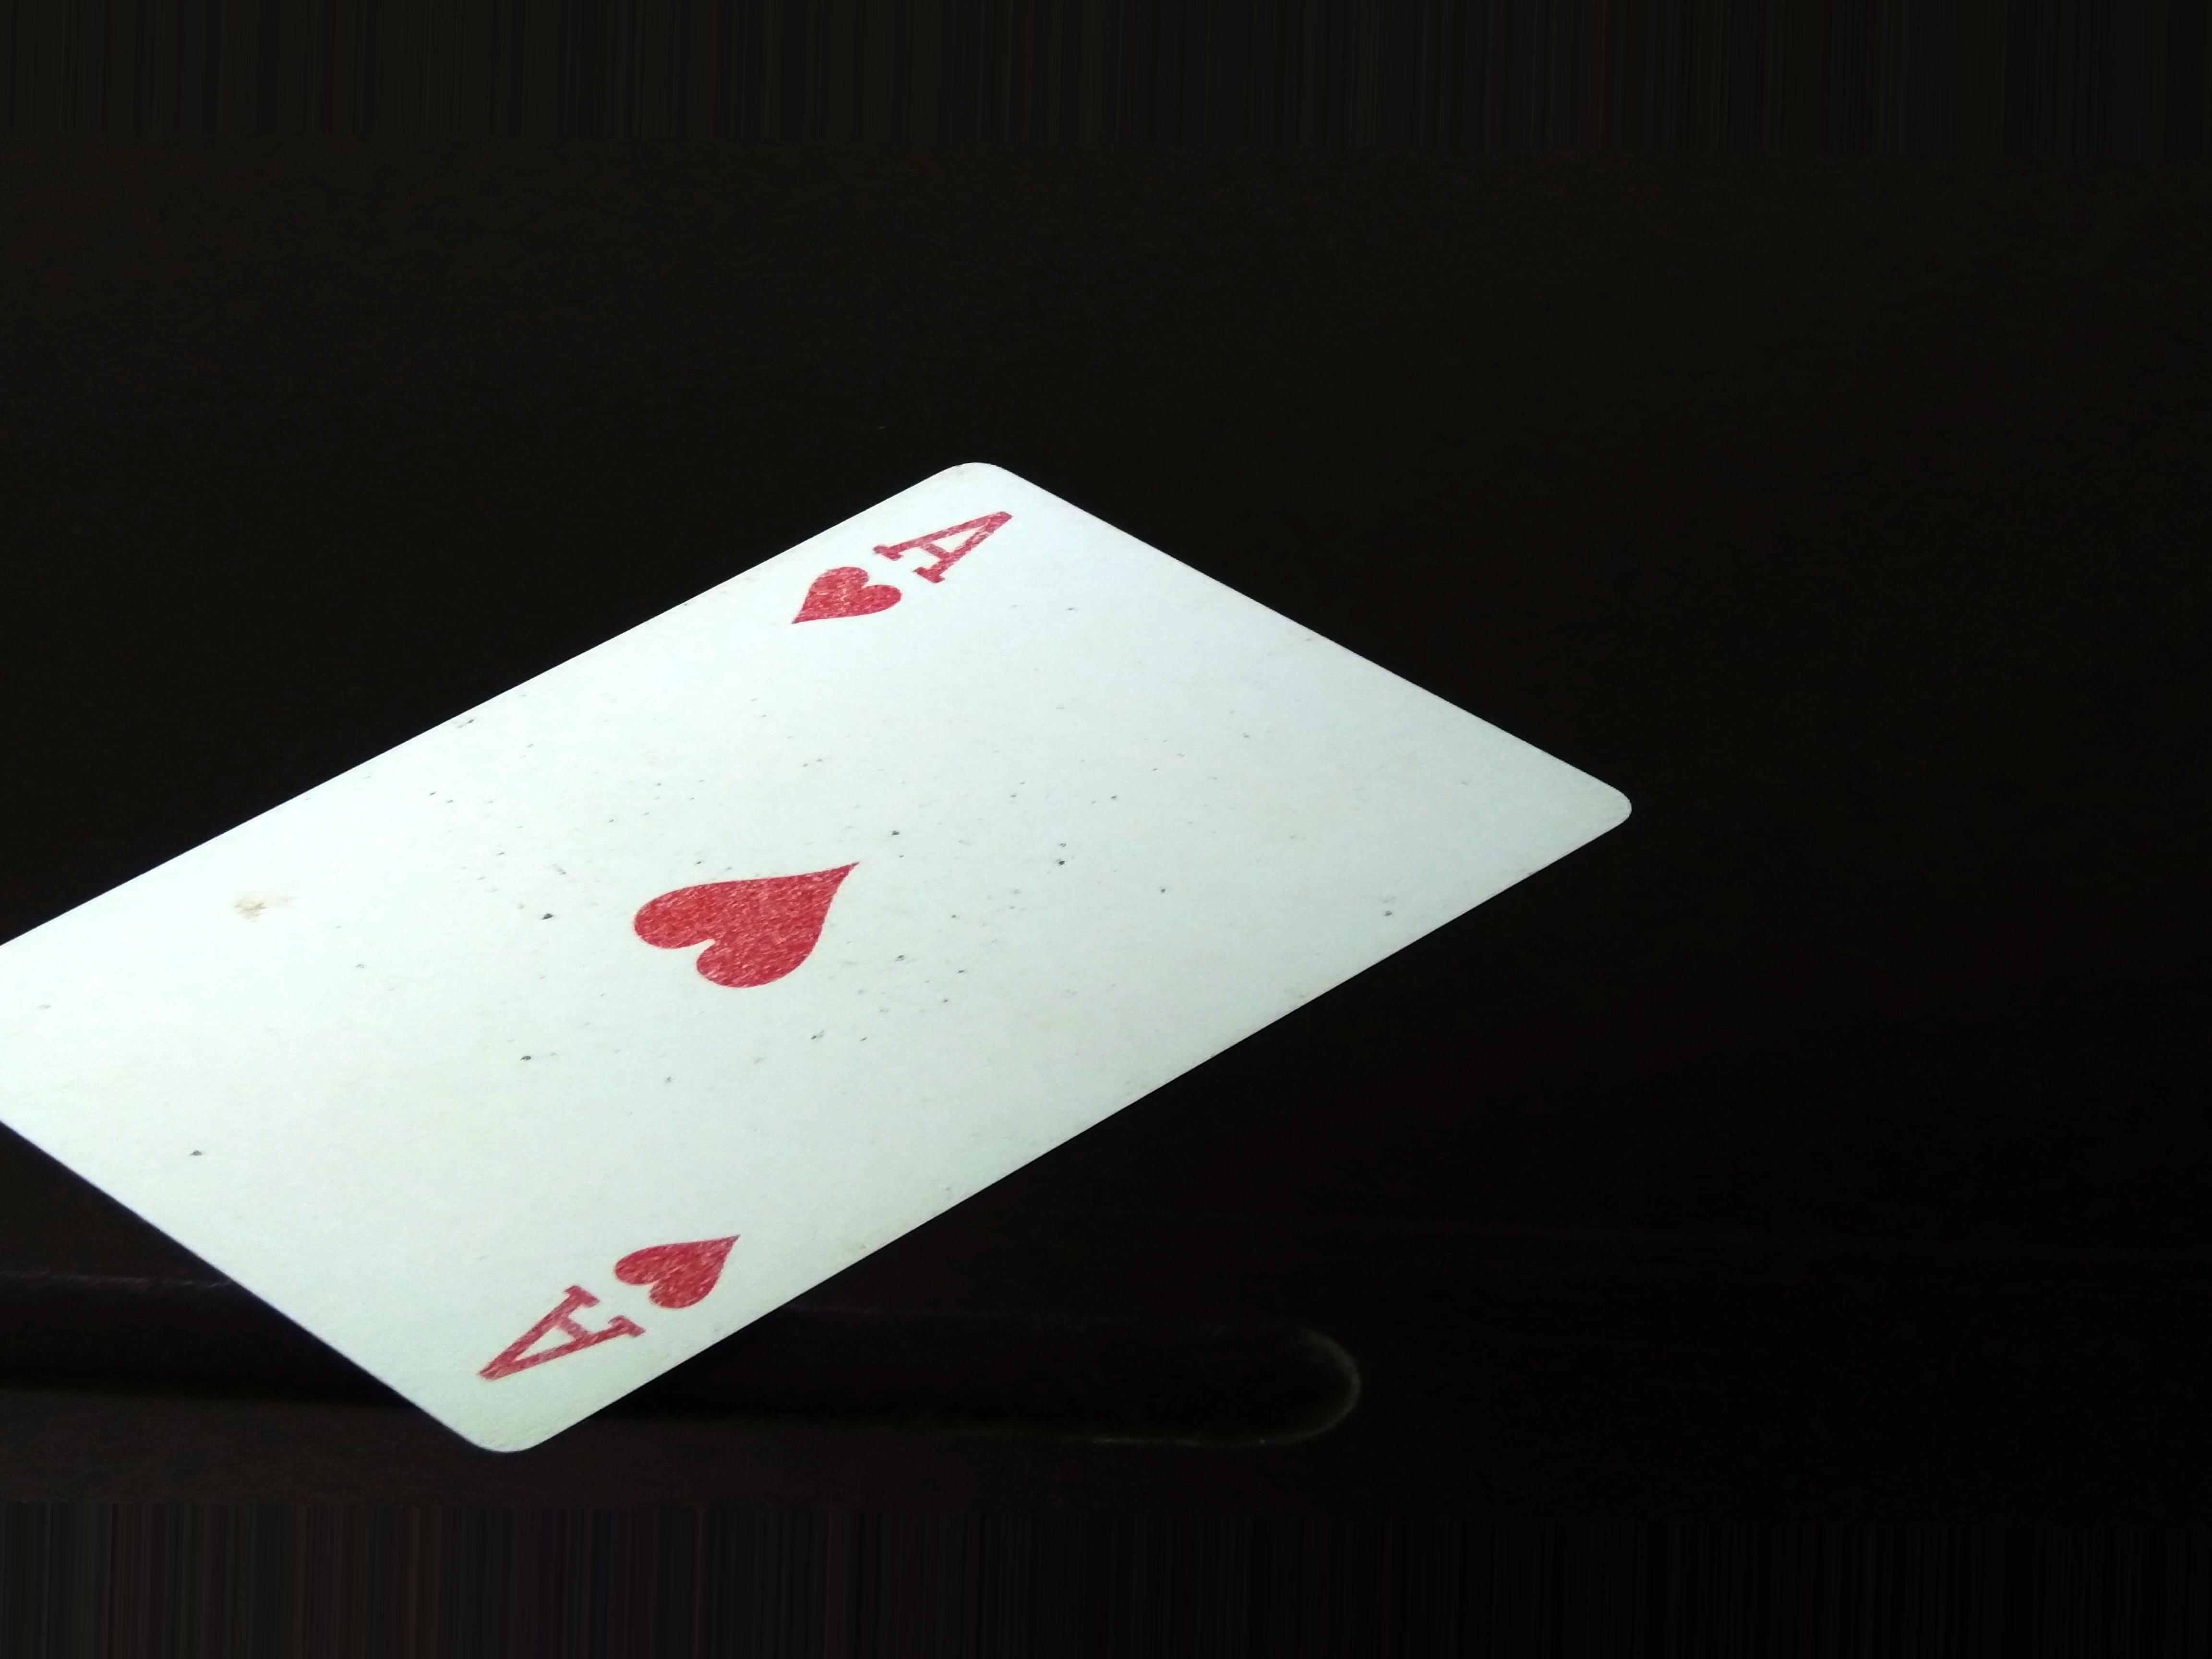AH: (780, 498, 1045, 640)
